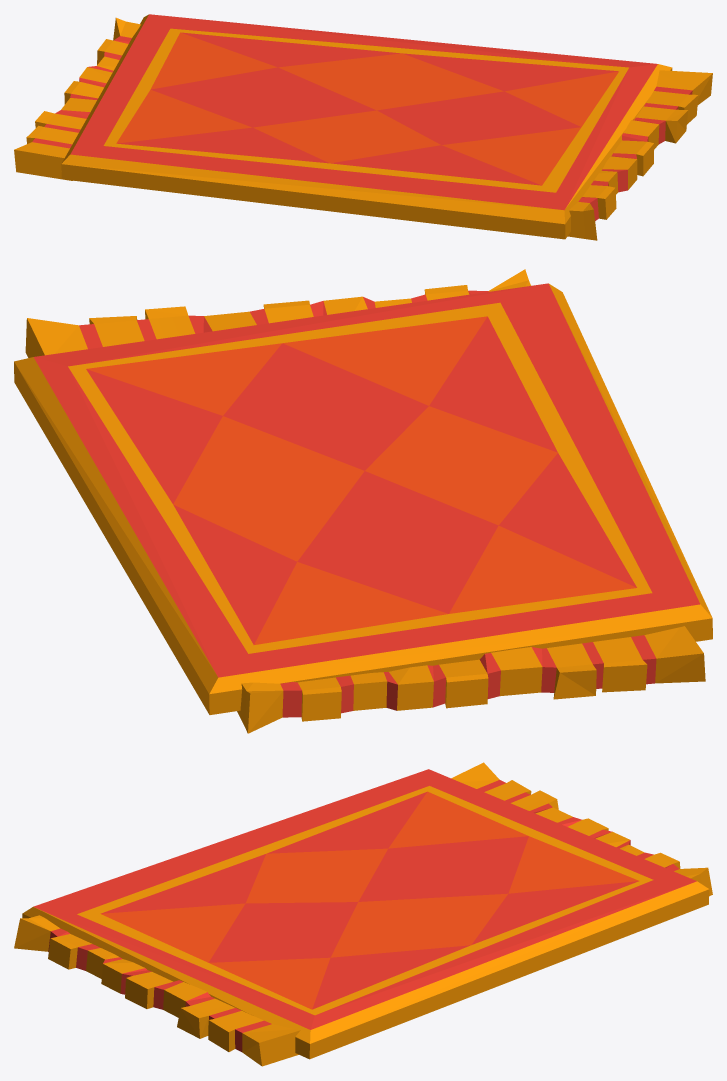
3 renders of one model, top to bottom at view 1: azimuth 30°, elevation 25°; view 2: azimuth 150°, elevation 25°; view 3: azimuth 270°, elevation 25°, orthographic. The views are drawn at different scales.
Parts seen in each view (by area): view 1: Rug; view 2: Rug; view 3: Rug.
Boxes of the visible parts, x1,y1,x2,y2 form: Rug: [14, 14, 712, 240]; Rug: [14, 269, 712, 733]; Rug: [14, 762, 712, 1066].
Size of the model in its own units: 1.47 by 0.1111 by 1.47.
